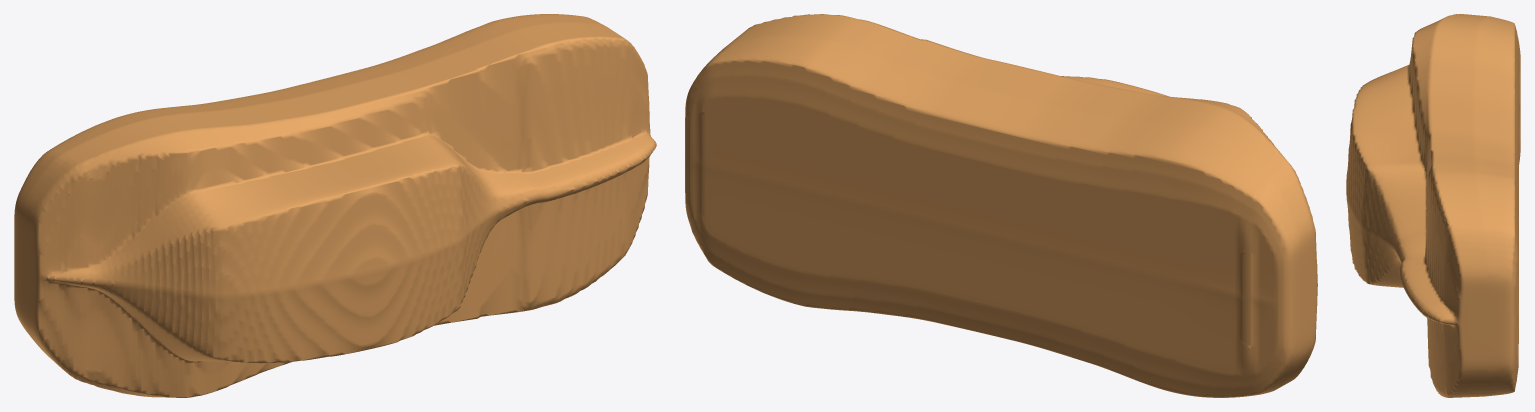
File: modern_car_v2_reference_implicit_scaffold.glb
3 views of the same model, side by side, from view 1: azimuth 30°, elevation 25°; view 2: azimuth 150°, elevation 25°; view 3: azimuth 270°, elevation 25° (orthographic). The views are drawn at different scales.
Parts seen in each view (by area): view 1: world; view 2: world; view 3: world.
Boxes of the visible parts, x1,y1,x2,y2 form: world: (14, 14, 656, 397); world: (685, 14, 1317, 397); world: (1346, 14, 1520, 397).
Bounding box in the file's own units: 4.35 × 1.82 × 1.36.
